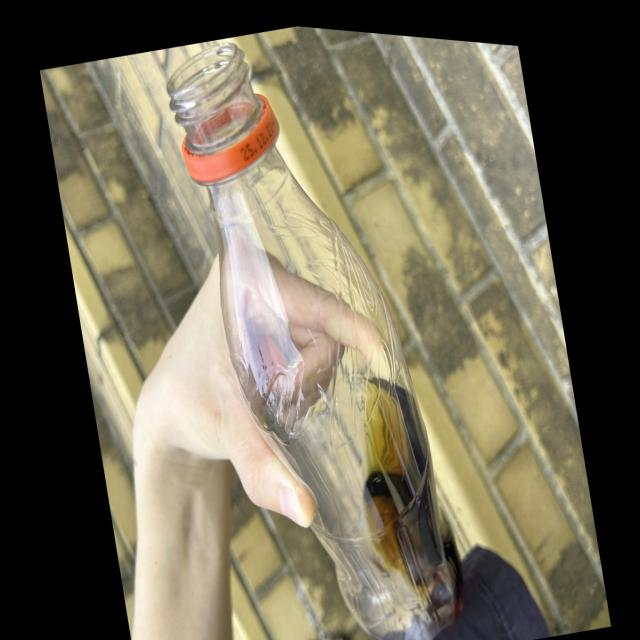low: (168, 44, 462, 640)
